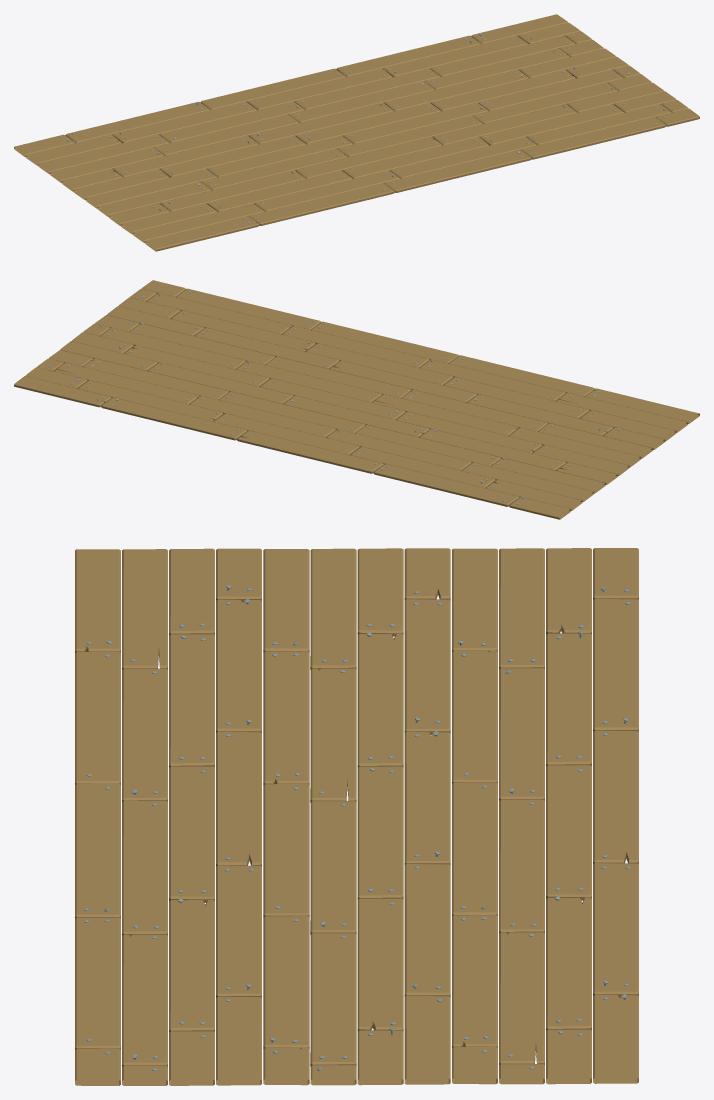
File: Floor.fbx
3 views of the same model, one above another, from view 1: azimuth 30°, elevation 25°; view 2: azimuth 150°, elevation 25°; view 3: azimuth 270°, elevation 25° (orthographic). The views are drawn at different scales.
Visible parts, largest first — view 1: plain boards.014, plain boards.015, plain boards.013, plain boards.010, plain boards.012, board nail and cut.004, board nail and cut.002, plain boards.001, plain boards.009, plain boards.002, plain boards.005, plain boards.011; view 2: board nail and cut.004, plain boards.001, plain boards.002, plain boards.005, plain boards.014, plain boards.010, plain boards.015, board nail and cut.002, plain boards.013, plain boards.009, plain boards.011, plain boards.012; view 3: board nail and cut.002, plain boards.001, plain boards.012, plain boards.010, plain boards.009, plain boards.011, plain boards.015, plain boards.013, board nail and cut.004, plain boards.014, plain boards.005, plain boards.002.
Part boxes in pixels (x1=…): plain boards.014: x1=109, y1=182, x2=292, y2=251; plain boards.015: x1=382, y1=115, x2=565, y2=184; plain boards.013: x1=245, y1=149, x2=428, y2=218; plain boards.010: x1=61, y1=148, x2=245, y2=217; plain boards.012: x1=519, y1=83, x2=699, y2=151; board nail and cut.004: x1=14, y1=113, x2=197, y2=182; board nail and cut.002: x1=469, y1=48, x2=651, y2=116; plain boards.001: x1=421, y1=14, x2=603, y2=81; plain boards.009: x1=198, y1=114, x2=381, y2=181; plain boards.002: x1=150, y1=80, x2=332, y2=147; plain boards.005: x1=286, y1=47, x2=467, y2=114; plain boards.011: x1=335, y1=81, x2=516, y2=148; board nail and cut.004: x1=422, y1=450, x2=605, y2=519; plain boards.001: x1=14, y1=350, x2=197, y2=419; plain boards.002: x1=286, y1=416, x2=469, y2=485; plain boards.005: x1=150, y1=383, x2=332, y2=452; plain boards.014: x1=516, y1=380, x2=699, y2=450; plain boards.010: x1=469, y1=415, x2=652, y2=484; plain boards.015: x1=242, y1=313, x2=425, y2=381; board nail and cut.002: x1=60, y1=315, x2=243, y2=383; plain boards.013: x1=380, y1=347, x2=562, y2=414; plain boards.009: x1=332, y1=381, x2=515, y2=449; plain boards.011: x1=197, y1=348, x2=377, y2=416; plain boards.012: x1=107, y1=280, x2=287, y2=348; board nail and cut.002: x1=263, y1=945, x2=450, y2=1085; plain boards.001: x1=452, y1=944, x2=638, y2=1084; plain boards.012: x1=75, y1=948, x2=261, y2=1085; plain boards.010: x1=263, y1=548, x2=450, y2=683; plain boards.009: x1=263, y1=681, x2=450, y2=816; plain boards.011: x1=263, y1=813, x2=450, y2=948; plain boards.015: x1=75, y1=814, x2=261, y2=949; plain boards.013: x1=75, y1=681, x2=261, y2=815; board nail and cut.004: x1=452, y1=548, x2=638, y2=683; plain boards.014: x1=75, y1=548, x2=261, y2=683; plain boards.005: x1=452, y1=812, x2=638, y2=947; plain boards.002: x1=452, y1=679, x2=638, y2=814.
Bounding box in the file's own units: 1121 × 21.02 × 502.
